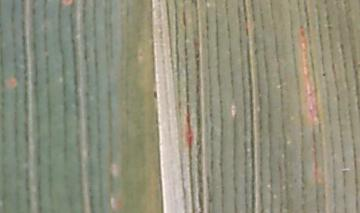tarspot: (152, 90, 158, 100), (321, 71, 327, 78)
